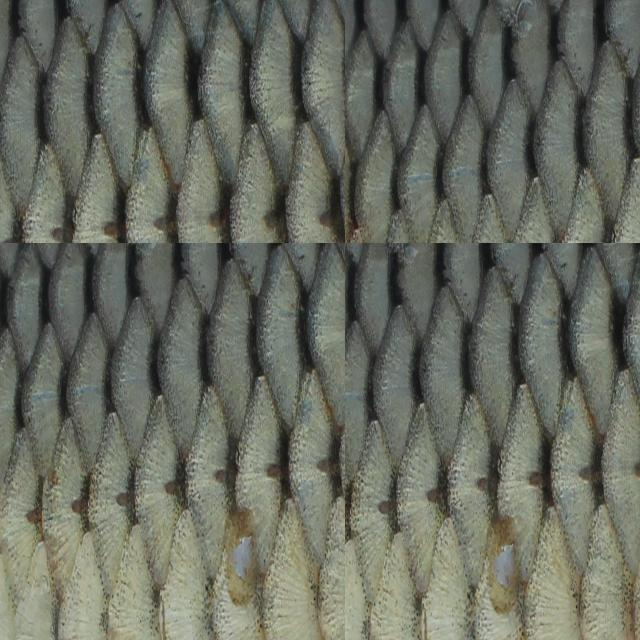fish: (345, 243, 640, 640)
